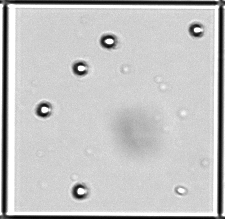Living Cell: (36, 102, 53, 119), (189, 22, 205, 38), (100, 34, 117, 49), (73, 60, 88, 76), (73, 183, 88, 198)
